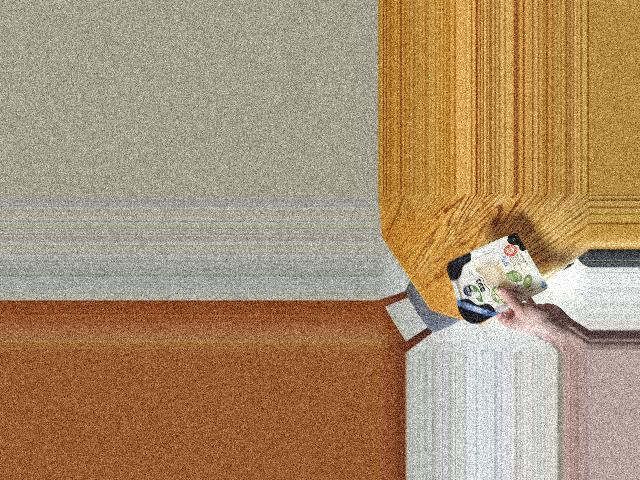cheese: (446, 238, 537, 329)
